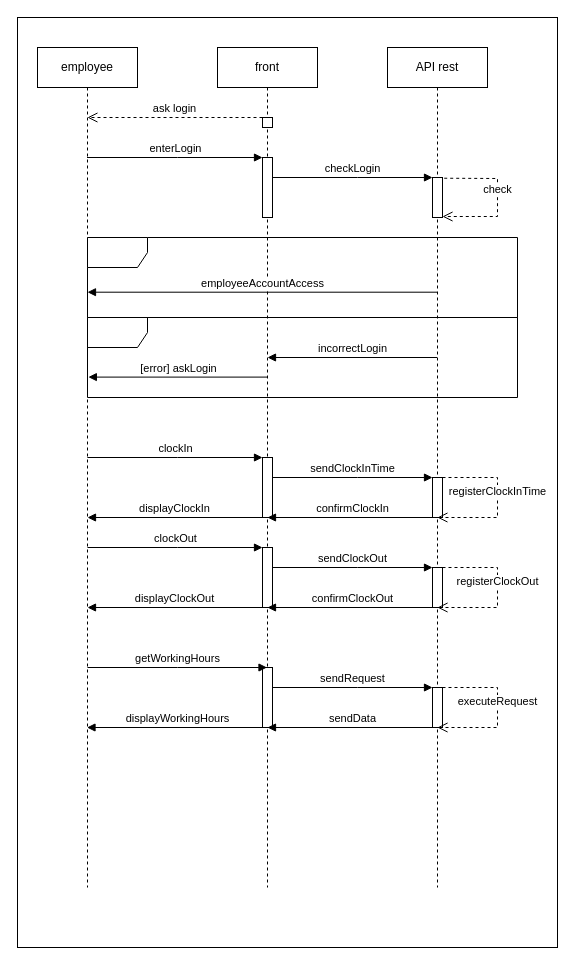
Image size: 575x965. Some labels were removed from this diagram. The shapes that lost their labels are listed below. From the top down, each one's centre as x and y in pixels, then its label:
pixel 302 277: valid login
pixel 302 357: login not valid (loop)
